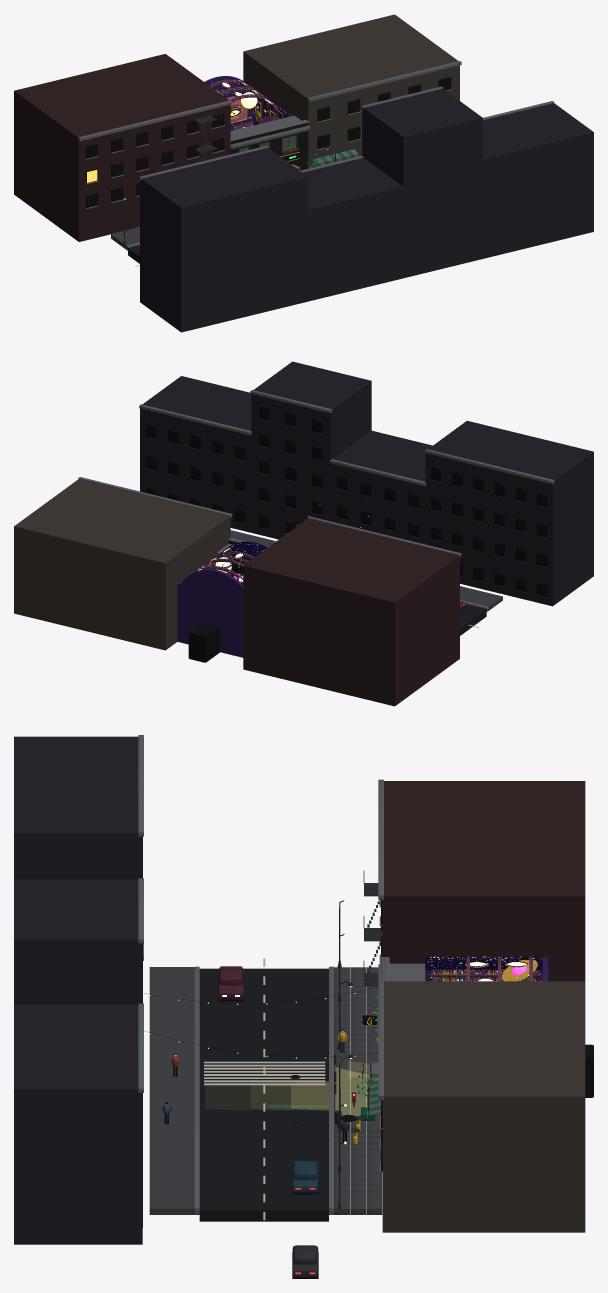
The model's file is shop.replan.glb.
3 renders of one model, top to bottom at view 1: azimuth 30°, elevation 25°; view 2: azimuth 150°, elevation 25°; view 3: azimuth 270°, elevation 25°, orthographic. The views are drawn at different scales.
Visible parts, largest first — view 1: opposite, neighbour_left, neighbour_right, facade_upper, shell, street, vault_ribs; view 2: opposite, neighbour_left, neighbour_right, shell, street, vault_ribs, vault; view 3: opposite, street, neighbour_right, neighbour_left, crossing, light_pools, shell, vault, car_1, street_furniture, car_0, car_2 (+1 smaller).
Boxes of the visible parts, x1,y1,x2,y2 form: opposite: [139, 86, 593, 332]; neighbour_left: [14, 54, 232, 241]; neighbour_right: [243, 14, 461, 168]; facade_upper: [230, 119, 310, 155]; shell: [204, 76, 309, 147]; street: [111, 227, 139, 266]; vault_ribs: [209, 79, 278, 109]; opposite: [139, 361, 593, 606]; neighbour_left: [243, 516, 461, 706]; neighbour_right: [14, 477, 232, 650]; shell: [177, 544, 249, 662]; street: [230, 530, 502, 635]; vault_ribs: [193, 551, 254, 579]; vault: [197, 541, 267, 569]; opposite: [14, 735, 143, 1244]; street: [149, 958, 382, 1221]; neighbour_right: [351, 980, 585, 1232]; neighbour_left: [363, 779, 585, 986]; crossing: [204, 1061, 325, 1085]; light_pools: [268, 1068, 377, 1115]; shell: [389, 956, 593, 1097]; vault: [425, 956, 542, 969]; car_1: [218, 966, 244, 1001]; street_furniture: [334, 981, 378, 1128]; car_0: [292, 1161, 318, 1194]; car_2: [292, 1245, 318, 1278].
Size of the model in its own units: 58.18 by 18.1 by 40.6.
